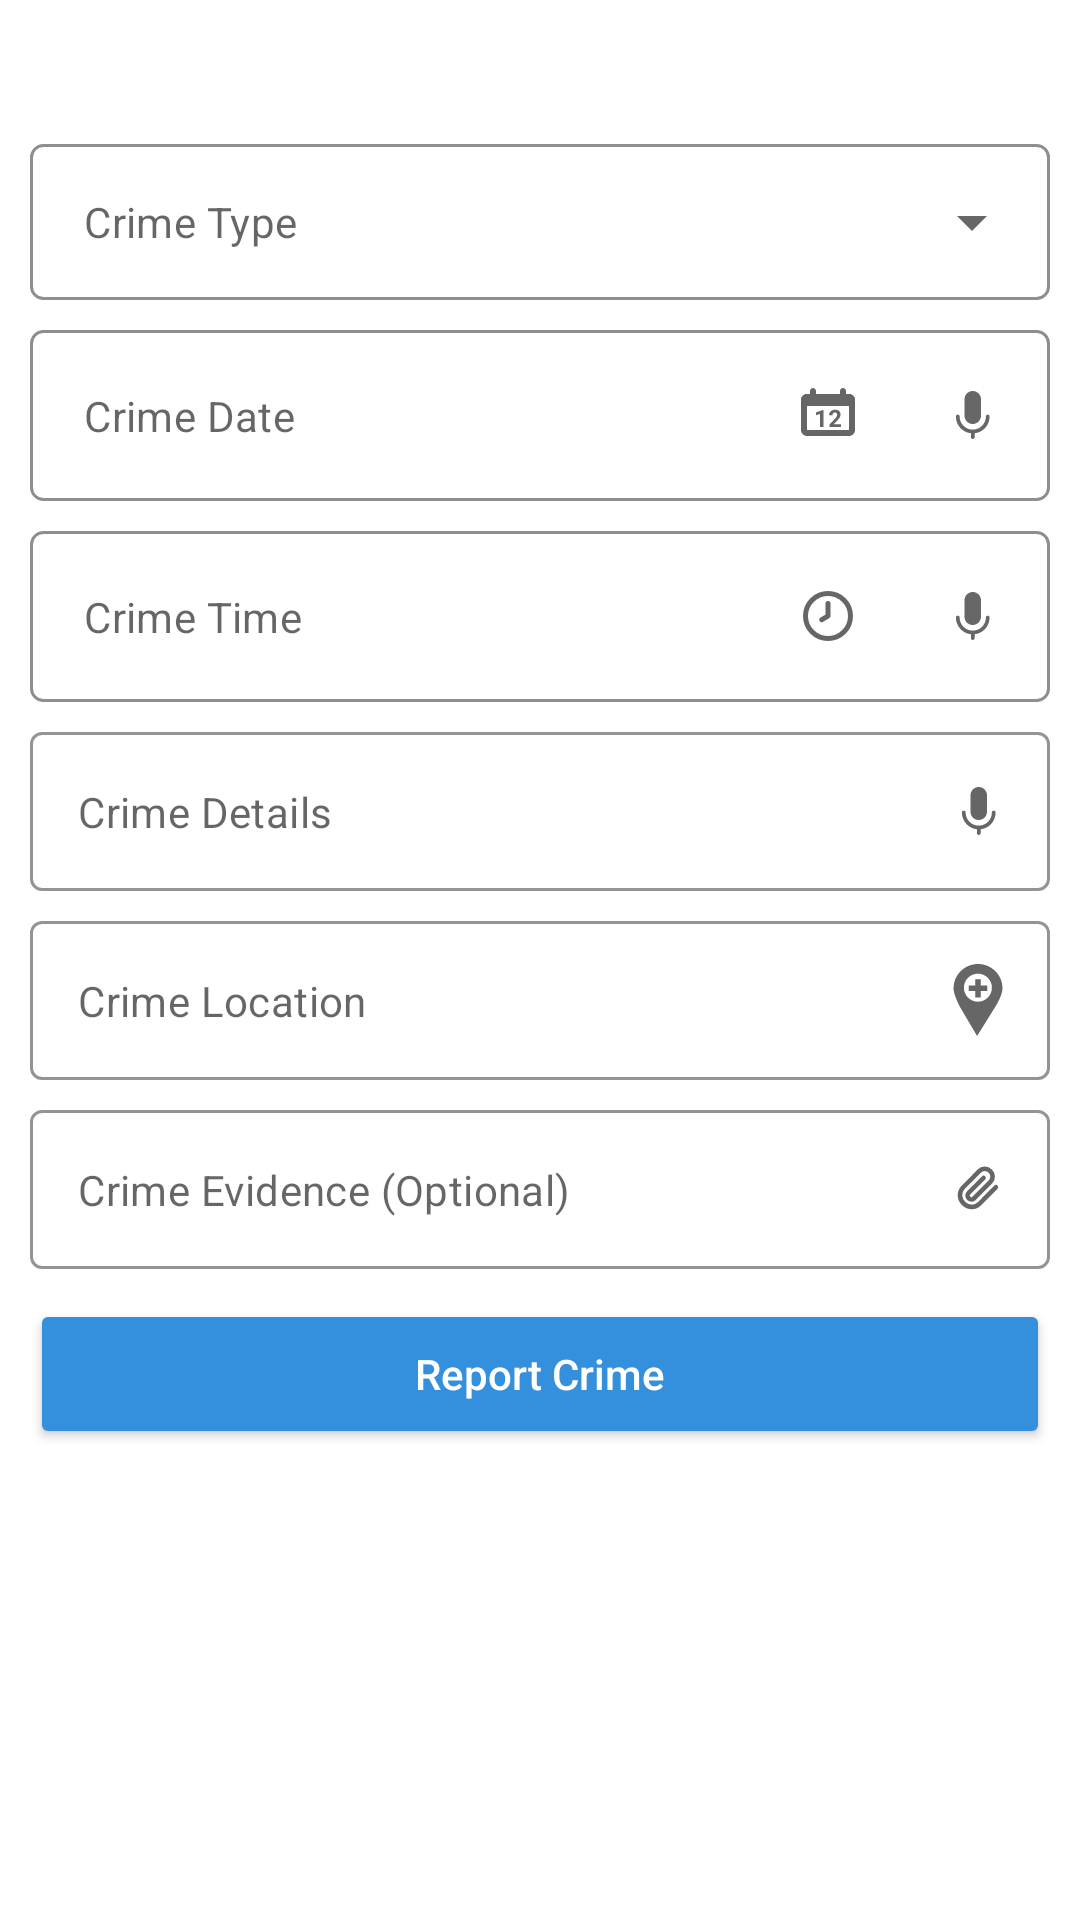

Icon bounding boxes for this 1080w x 1920h phone screenshot, format (x1, y1, x2, y2):
mic: (956, 391, 990, 439), (956, 592, 990, 640)
